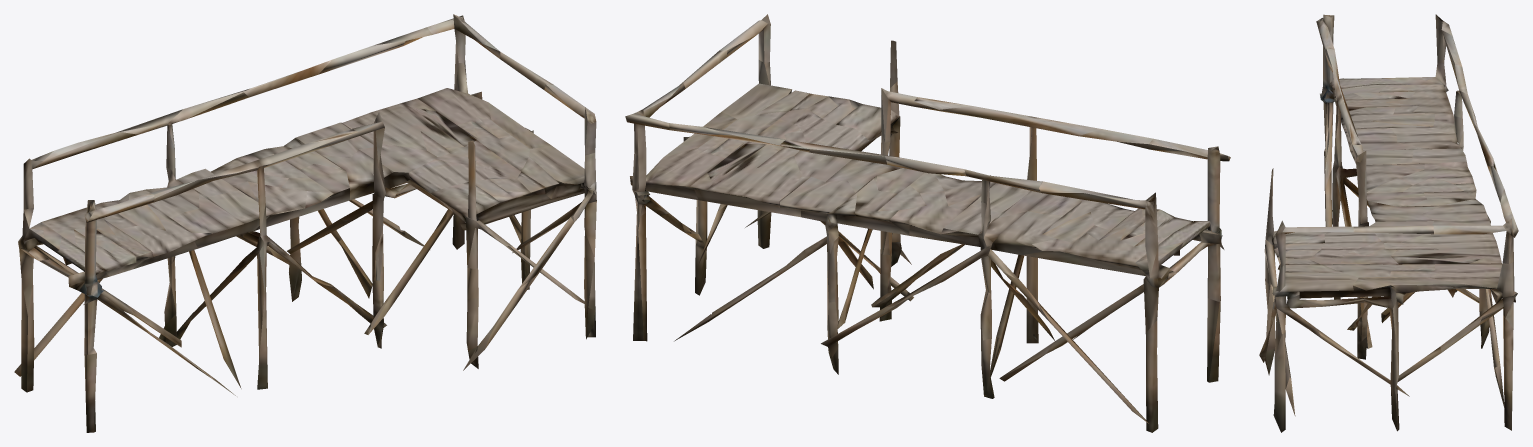
Rendered from jembatan_bambu_l_lod2.glb.
3 renders of one model, left to right at view 1: azimuth 30°, elevation 25°; view 2: azimuth 150°, elevation 25°; view 3: azimuth 270°, elevation 25°, orthographic. The views are drawn at different scales.
Parts seen in each view (by area): view 1: tripo_node_47d440b2-9a86-4abf-b847-68708bbed0ed; view 2: tripo_node_47d440b2-9a86-4abf-b847-68708bbed0ed; view 3: tripo_node_47d440b2-9a86-4abf-b847-68708bbed0ed.
Part boxes in pixels (bbox=[...]): tripo_node_47d440b2-9a86-4abf-b847-68708bbed0ed: bbox=[14, 14, 596, 432]; tripo_node_47d440b2-9a86-4abf-b847-68708bbed0ed: bbox=[625, 14, 1230, 432]; tripo_node_47d440b2-9a86-4abf-b847-68708bbed0ed: bbox=[1259, 14, 1518, 432].
Bounding box in the file's own units: 0.9999 × 0.447 × 0.5013.
Materials: 1 (1 with a texture image).
